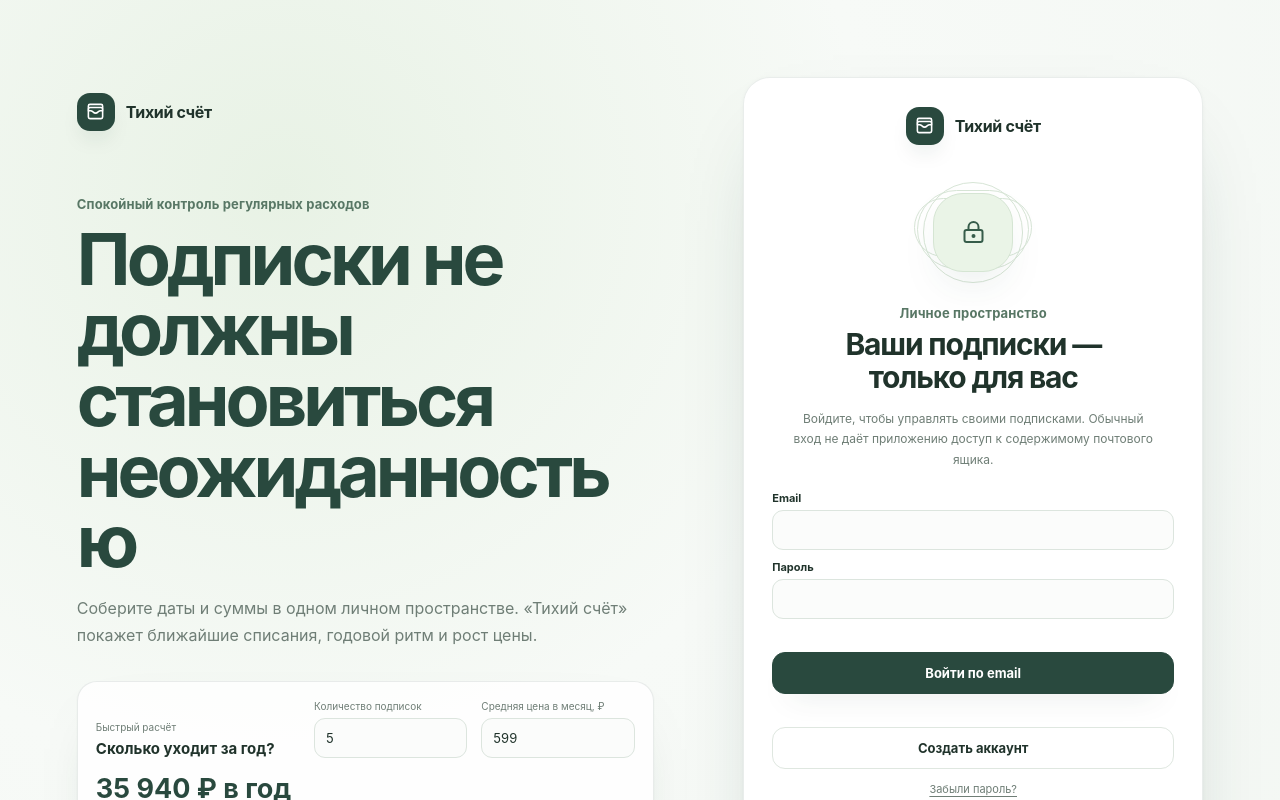
Scenario: password reset is available without loading user data
The width and height of the screenshot is (1280, 800).
Type "person@example.com" into the field labelled "Email" at (973, 530), box [772,510,1174,550]
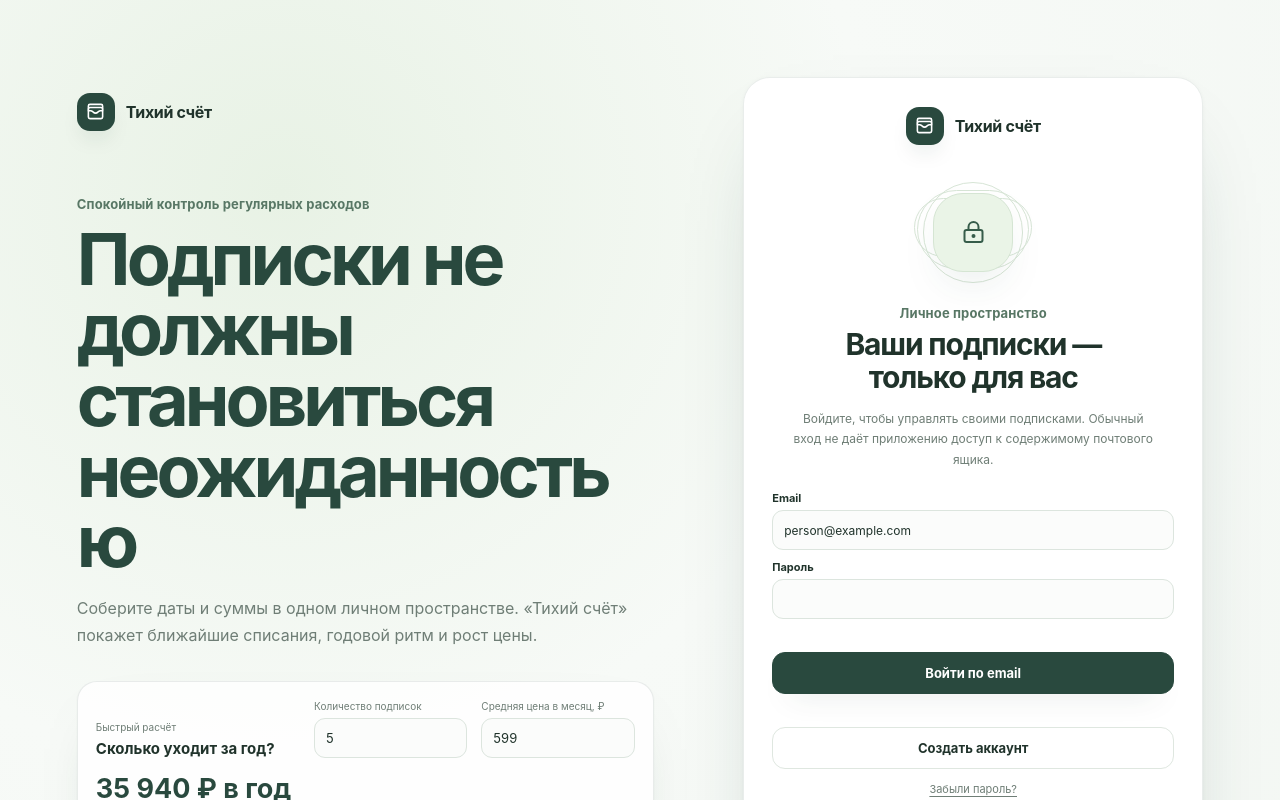
Click the button "Забыли пароль?" at (973, 789), box [923,781,1023,797]
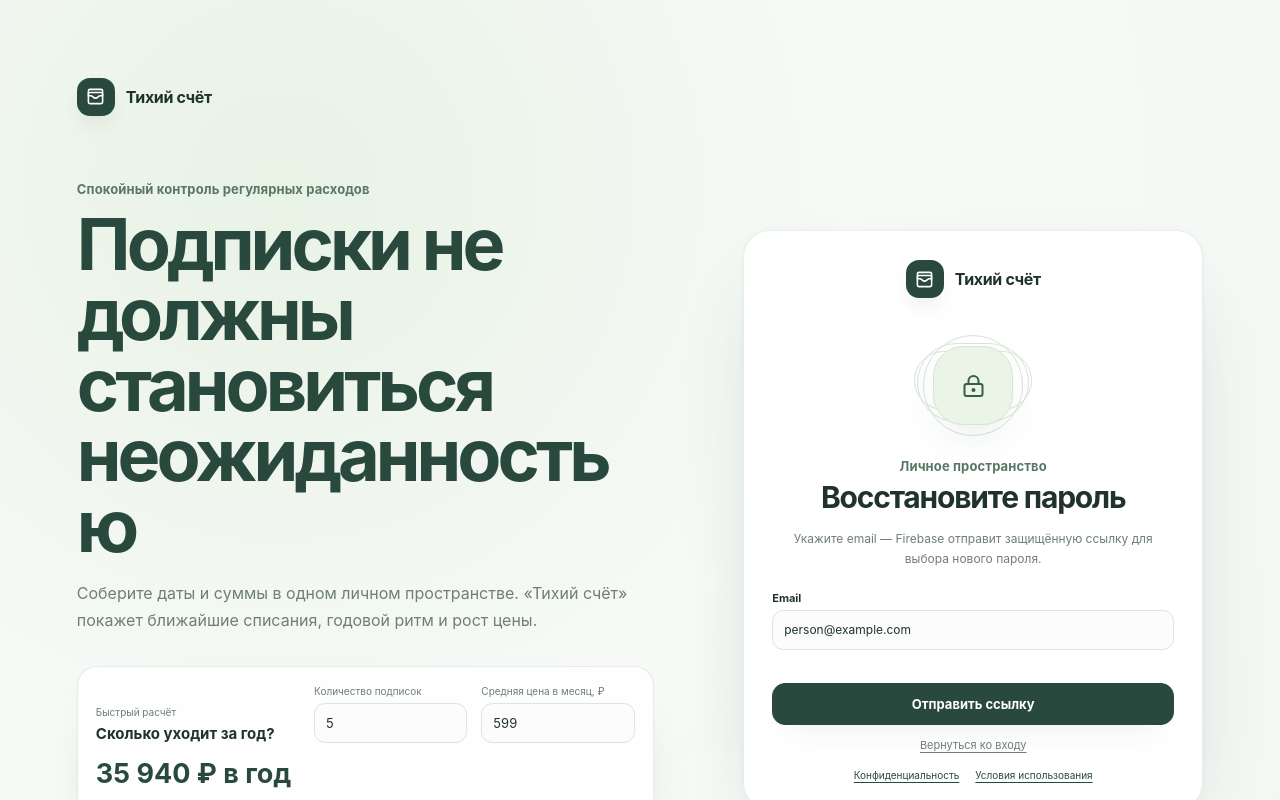
Click the button "Отправить ссылку" at (973, 704), box [772,682,1174,724]
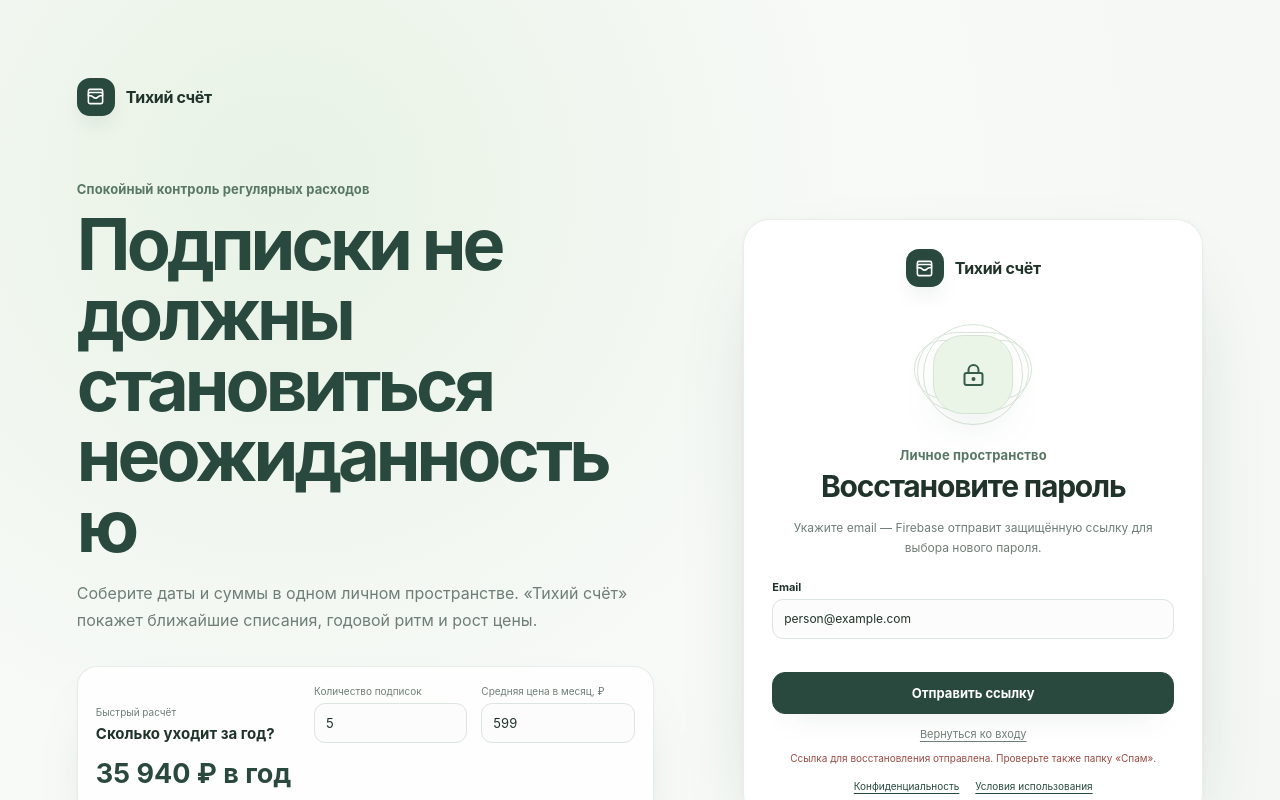
Expected: the message reads "Ссылка для восстановления отправлена. Проверьте также папку «Спам».", [790,752,1156,764]
